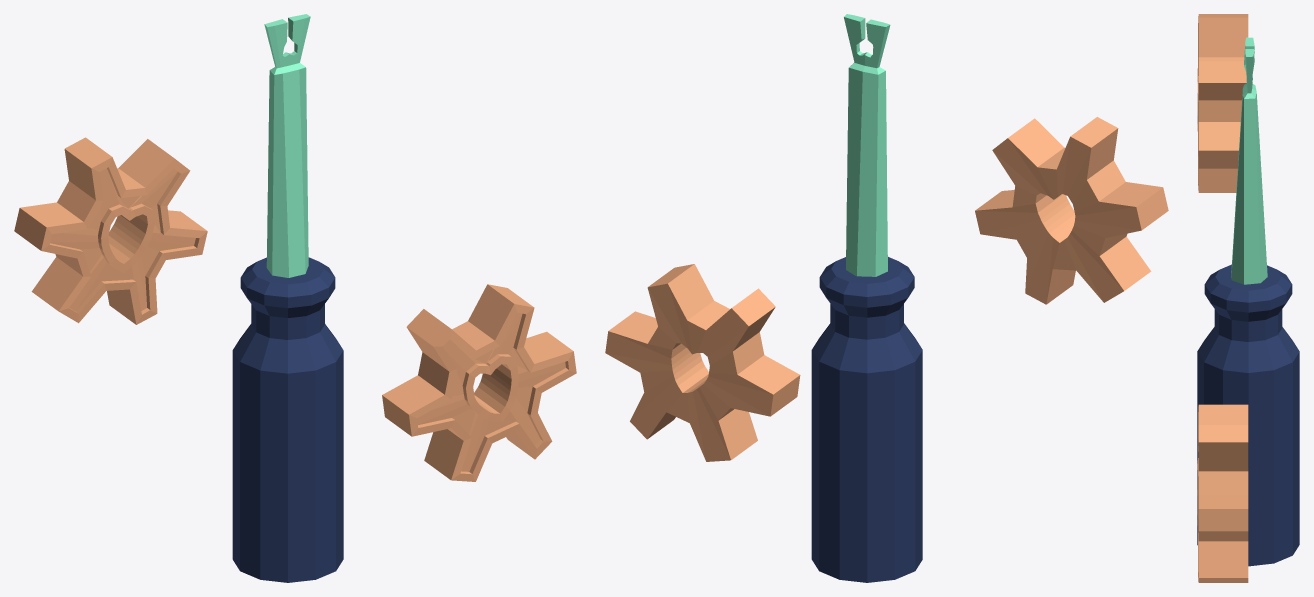
Rendered from Heal 1.fbx.
3 views of the same model, side by side, from view 1: azimuth 30°, elevation 25°; view 2: azimuth 150°, elevation 25°; view 3: azimuth 270°, elevation 25° (orthographic). The views are drawn at different scales.
Visible parts, largest first — view 1: Cilindro, Cilindro.002, Cilindro.003, Cilindro.001; view 2: Cilindro, Cilindro.002, Cilindro.003, Cilindro.001; view 3: Cilindro, Cilindro.002, Cilindro.003, Cilindro.001.
Part boxes in pixels (x1=…): Cilindro: x1=232, y1=257, x2=343, y2=582; Cilindro.002: x1=382, y1=284, x2=576, y2=481; Cilindro.003: x1=14, y1=137, x2=207, y2=324; Cilindro.001: x1=264, y1=14, x2=310, y2=277; Cilindro: x1=811, y1=257, x2=922, y2=582; Cilindro.002: x1=605, y1=264, x2=800, y2=461; Cilindro.003: x1=975, y1=117, x2=1168, y2=304; Cilindro.001: x1=844, y1=14, x2=890, y2=276; Cilindro: x1=1197, y1=264, x2=1299, y2=566; Cilindro.002: x1=1197, y1=404, x2=1248, y2=582; Cilindro.003: x1=1197, y1=14, x2=1248, y2=192; Cilindro.001: x1=1231, y1=37, x2=1267, y2=284.
Size of the model in its own units: 109 by 105 by 19.53.
